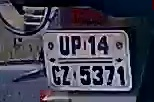1: (86, 35, 97, 57), (116, 64, 126, 88)
3: (90, 65, 103, 86)
4: (97, 35, 110, 57)
5: (78, 65, 91, 86)
7: (102, 65, 117, 86)
C: (50, 65, 62, 87)
P: (70, 35, 82, 57)
U: (57, 34, 71, 57)
Z: (60, 66, 74, 87)
